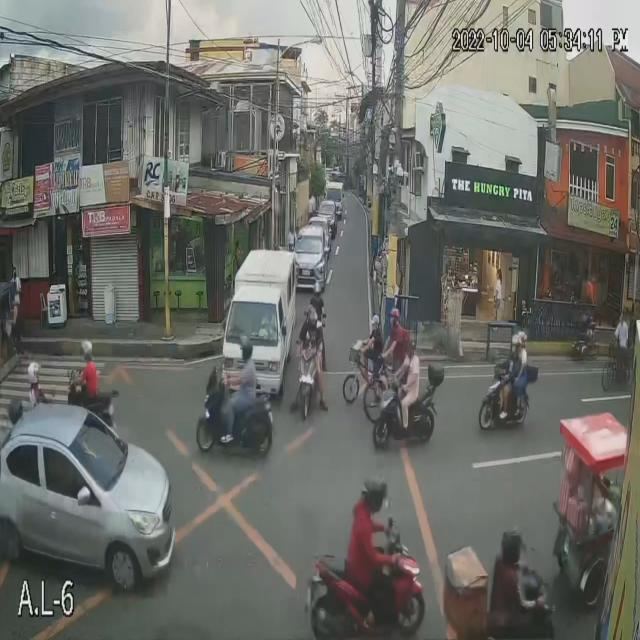half: (499, 525, 525, 566), (364, 474, 388, 515), (236, 337, 255, 360), (79, 338, 94, 361), (28, 362, 40, 384)
